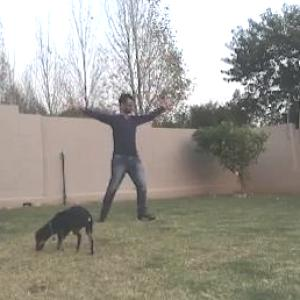takeoff: (40, 86, 169, 233)
